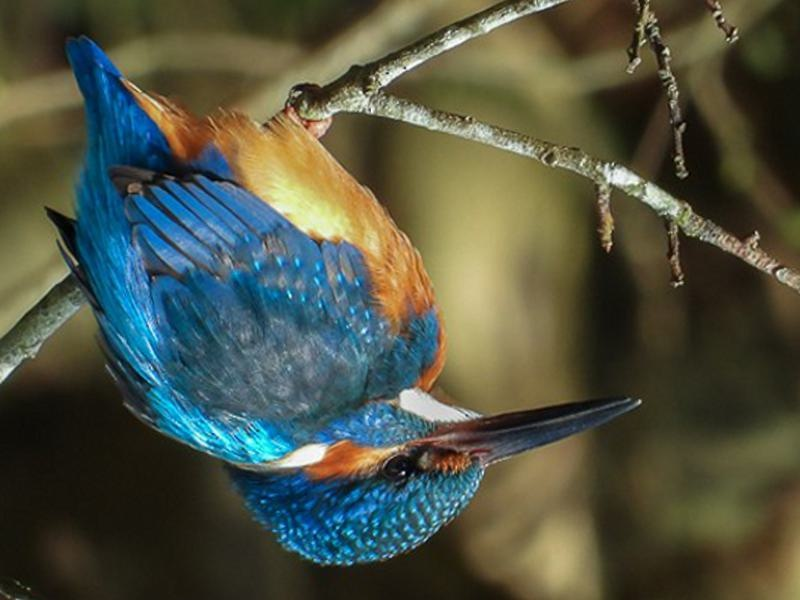kingfisher: (56, 46, 651, 573)
